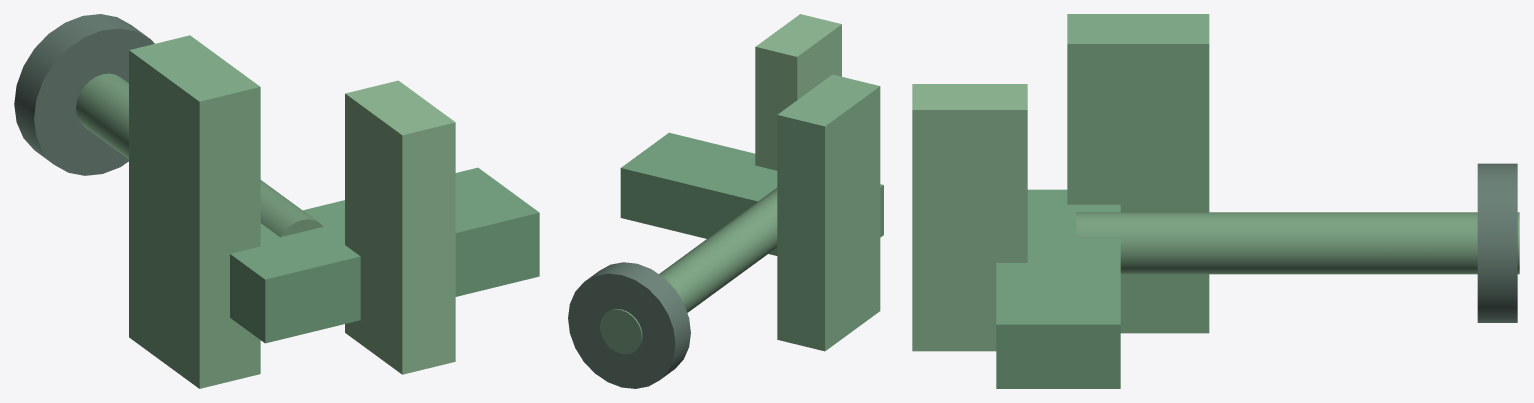
Rendered from plant_cluster.glb.
3 views of the same model, side by side, from view 1: azimuth 30°, elevation 25°; view 2: azimuth 150°, elevation 25°; view 3: azimuth 270°, elevation 25° (orthographic). The views are drawn at different scales.
Parts seen in each view (by area): view 1: leaf_a, leaf_c, leaf_b, root_light, stem; view 2: leaf_a, leaf_b, root_light, stem, leaf_c; view 3: leaf_a, leaf_c, stem, leaf_b, root_light.
Part boxes in pixels (<box>): leaf_a: <box>129,35,260,388</box>; leaf_c: <box>345,80,455,374</box>; leaf_b: <box>230,167,539,343</box>; root_light: <box>14,14,154,175</box>; stem: <box>76,73,323,237</box>; leaf_a: <box>777,74,880,351</box>; leaf_b: <box>620,132,883,255</box>; root_light: <box>568,262,690,388</box>; stem: <box>600,188,777,354</box>; leaf_c: <box>755,14,841,170</box>; leaf_a: <box>1067,14,1209,333</box>; leaf_c: <box>912,84,1027,351</box>; stem: <box>1076,212,1519,274</box>; leaf_b: <box>996,189,1120,388</box>; root_light: <box>1477,163,1517,322</box>.
Bounding box in the file's own units: 0.4 × 0.36 × 0.685.
